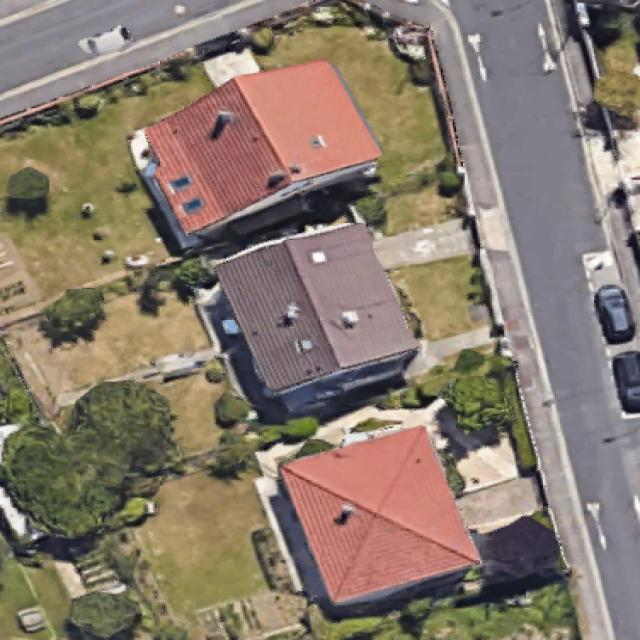maison: (121, 36, 386, 251), (274, 407, 487, 632), (215, 208, 425, 419)
